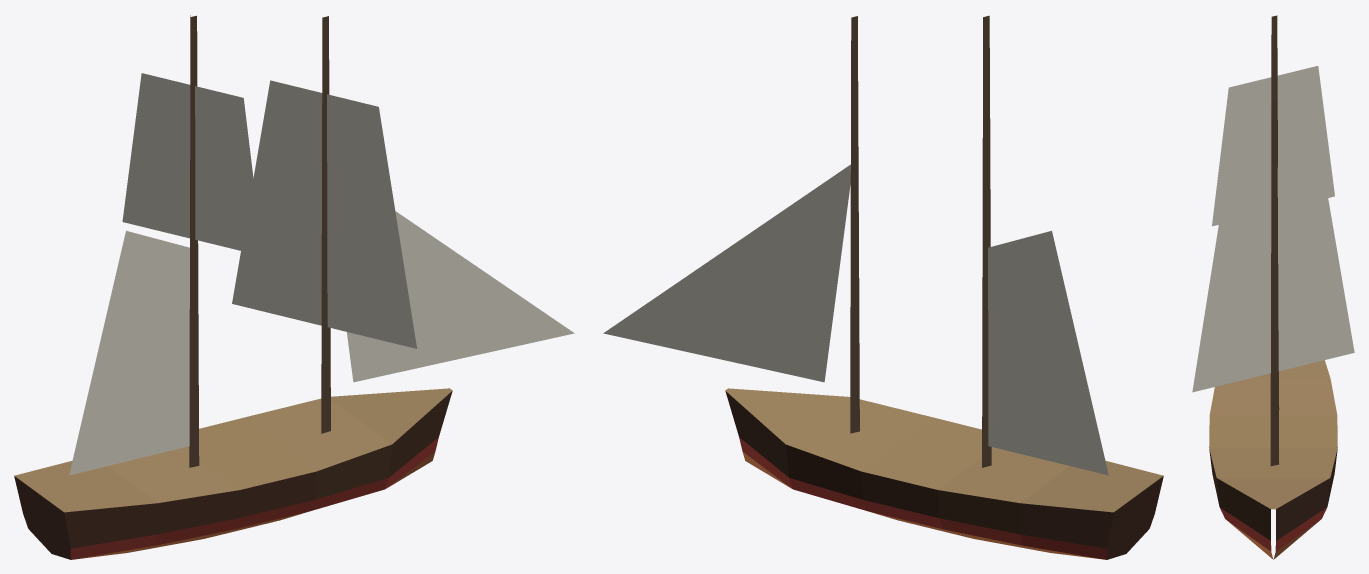
File: hull_gold_brig_large_lod.glb
3 renders of one model, left to right at view 1: azimuth 30°, elevation 25°; view 2: azimuth 150°, elevation 25°; view 3: azimuth 270°, elevation 25°, orthographic. The views are drawn at different scales.
Parts seen in each view (by area): view 1: lod; view 2: lod; view 3: lod.
Part boxes in pixels (left/top/right/bottom): lod: left=14, top=15, right=574, bottom=559; lod: left=603, top=15, right=1163, bottom=559; lod: left=1192, top=15, right=1354, bottom=559.
Bounding box in the file's own units: 23.4 × 21.96 × 7.
